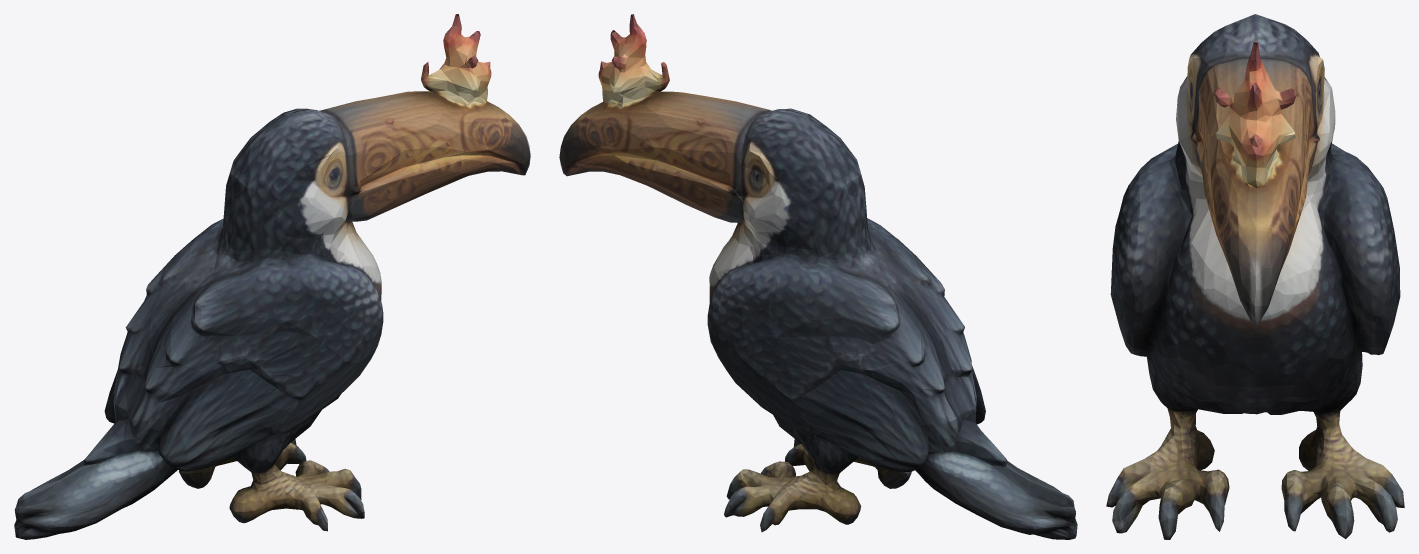
File: emberToucan.glb
The picture shows the model from 3 angles, left to right: view 1: azimuth 30°, elevation 25°; view 2: azimuth 150°, elevation 25°; view 3: azimuth 270°, elevation 25°; orthographic projection. The views are drawn at different scales.
Parts seen in each view (by area): view 1: world; view 2: world; view 3: world.
Boxes of the visible parts, box(x1,y1,x2,y2) form: world: box(14, 14, 530, 539); world: box(559, 14, 1077, 539); world: box(1106, 14, 1404, 539).
Size of the model in its own units: 1 by 0.8031 by 0.3695.
1 material, 1 textured.
